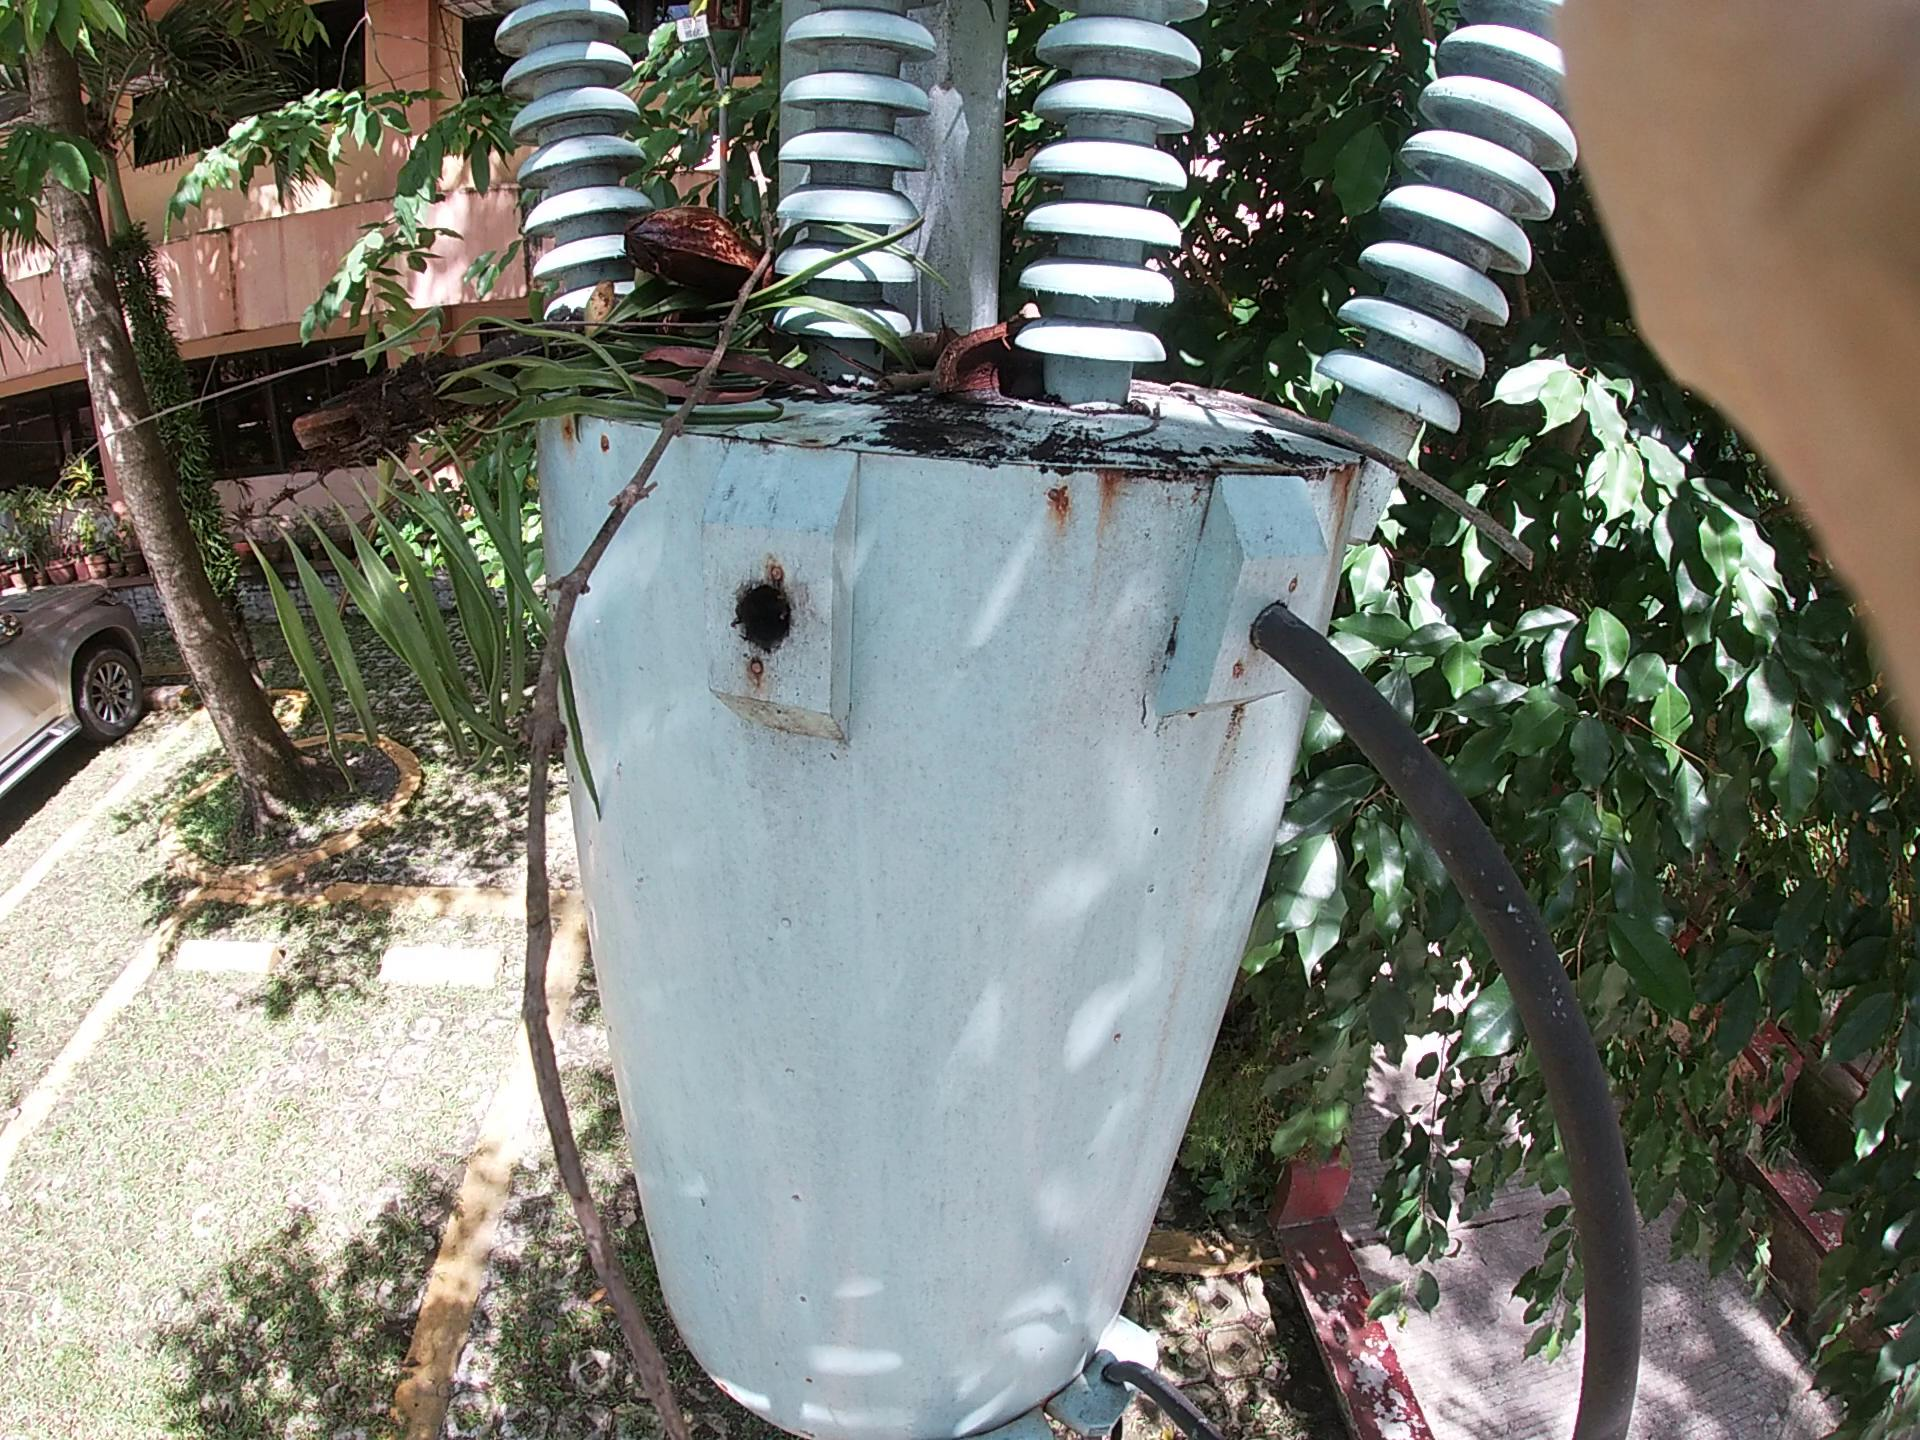branch with leaves: (239, 253, 859, 616)
leaf: (646, 324, 812, 455)
mahogany fruit: (912, 315, 1137, 457), (612, 169, 773, 293)
tree branch: (503, 92, 736, 1440), (1117, 295, 1553, 610), (862, 352, 957, 421)
